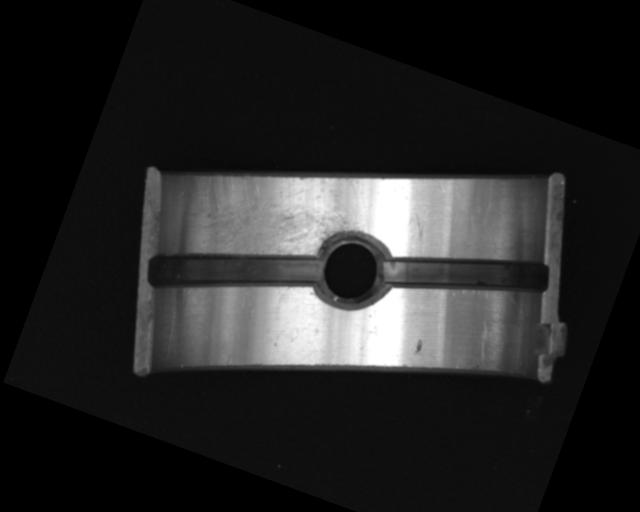bruise: (412, 336, 427, 356)
gap: (143, 206, 323, 339), (379, 211, 553, 333)
hole: (302, 220, 402, 322)
nick: (467, 318, 499, 367), (402, 212, 436, 256)
scratch: (178, 121, 383, 302)
